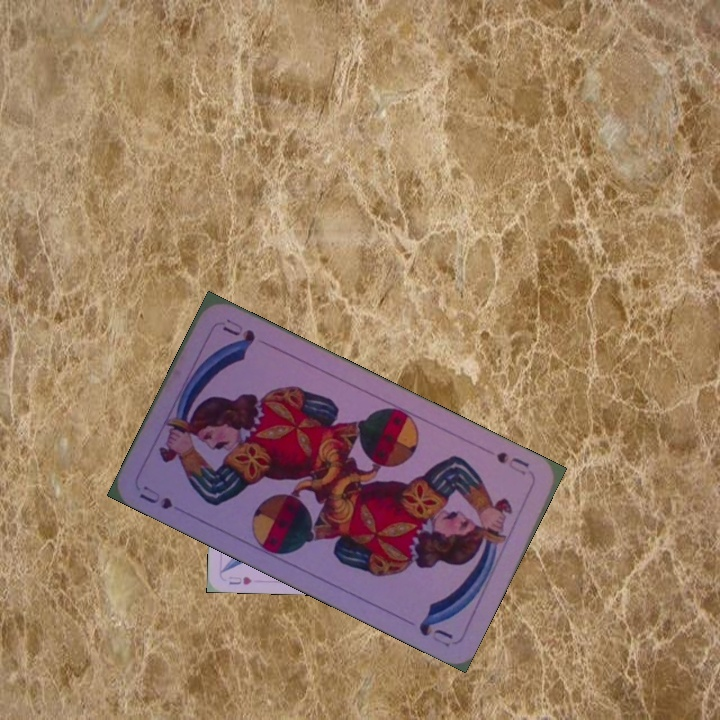HU: (225, 572, 254, 587)
SU: (135, 481, 176, 512), (492, 448, 532, 478)
